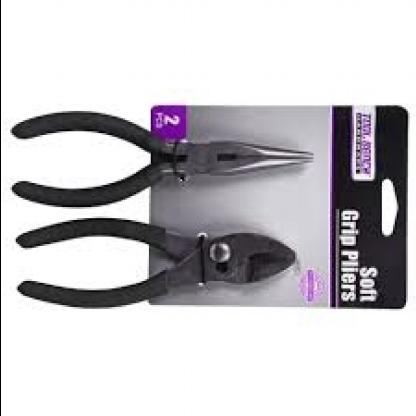Pliers: (10, 111, 315, 209), (14, 218, 296, 308)
